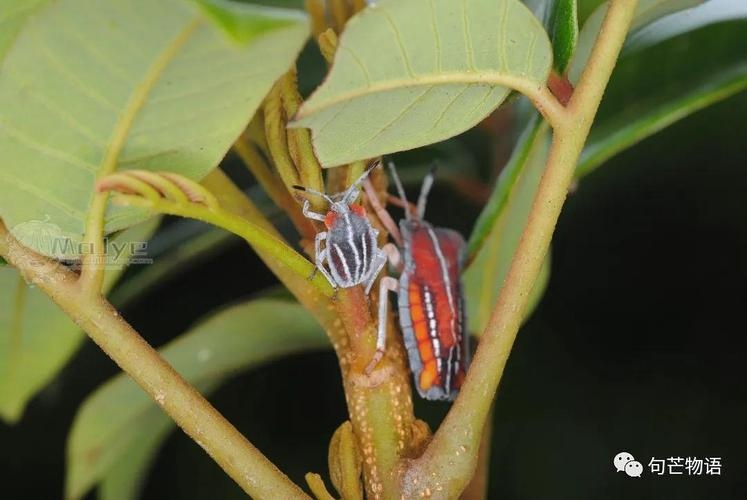Stink_Bug: (383, 191, 470, 392), (303, 187, 377, 284)
